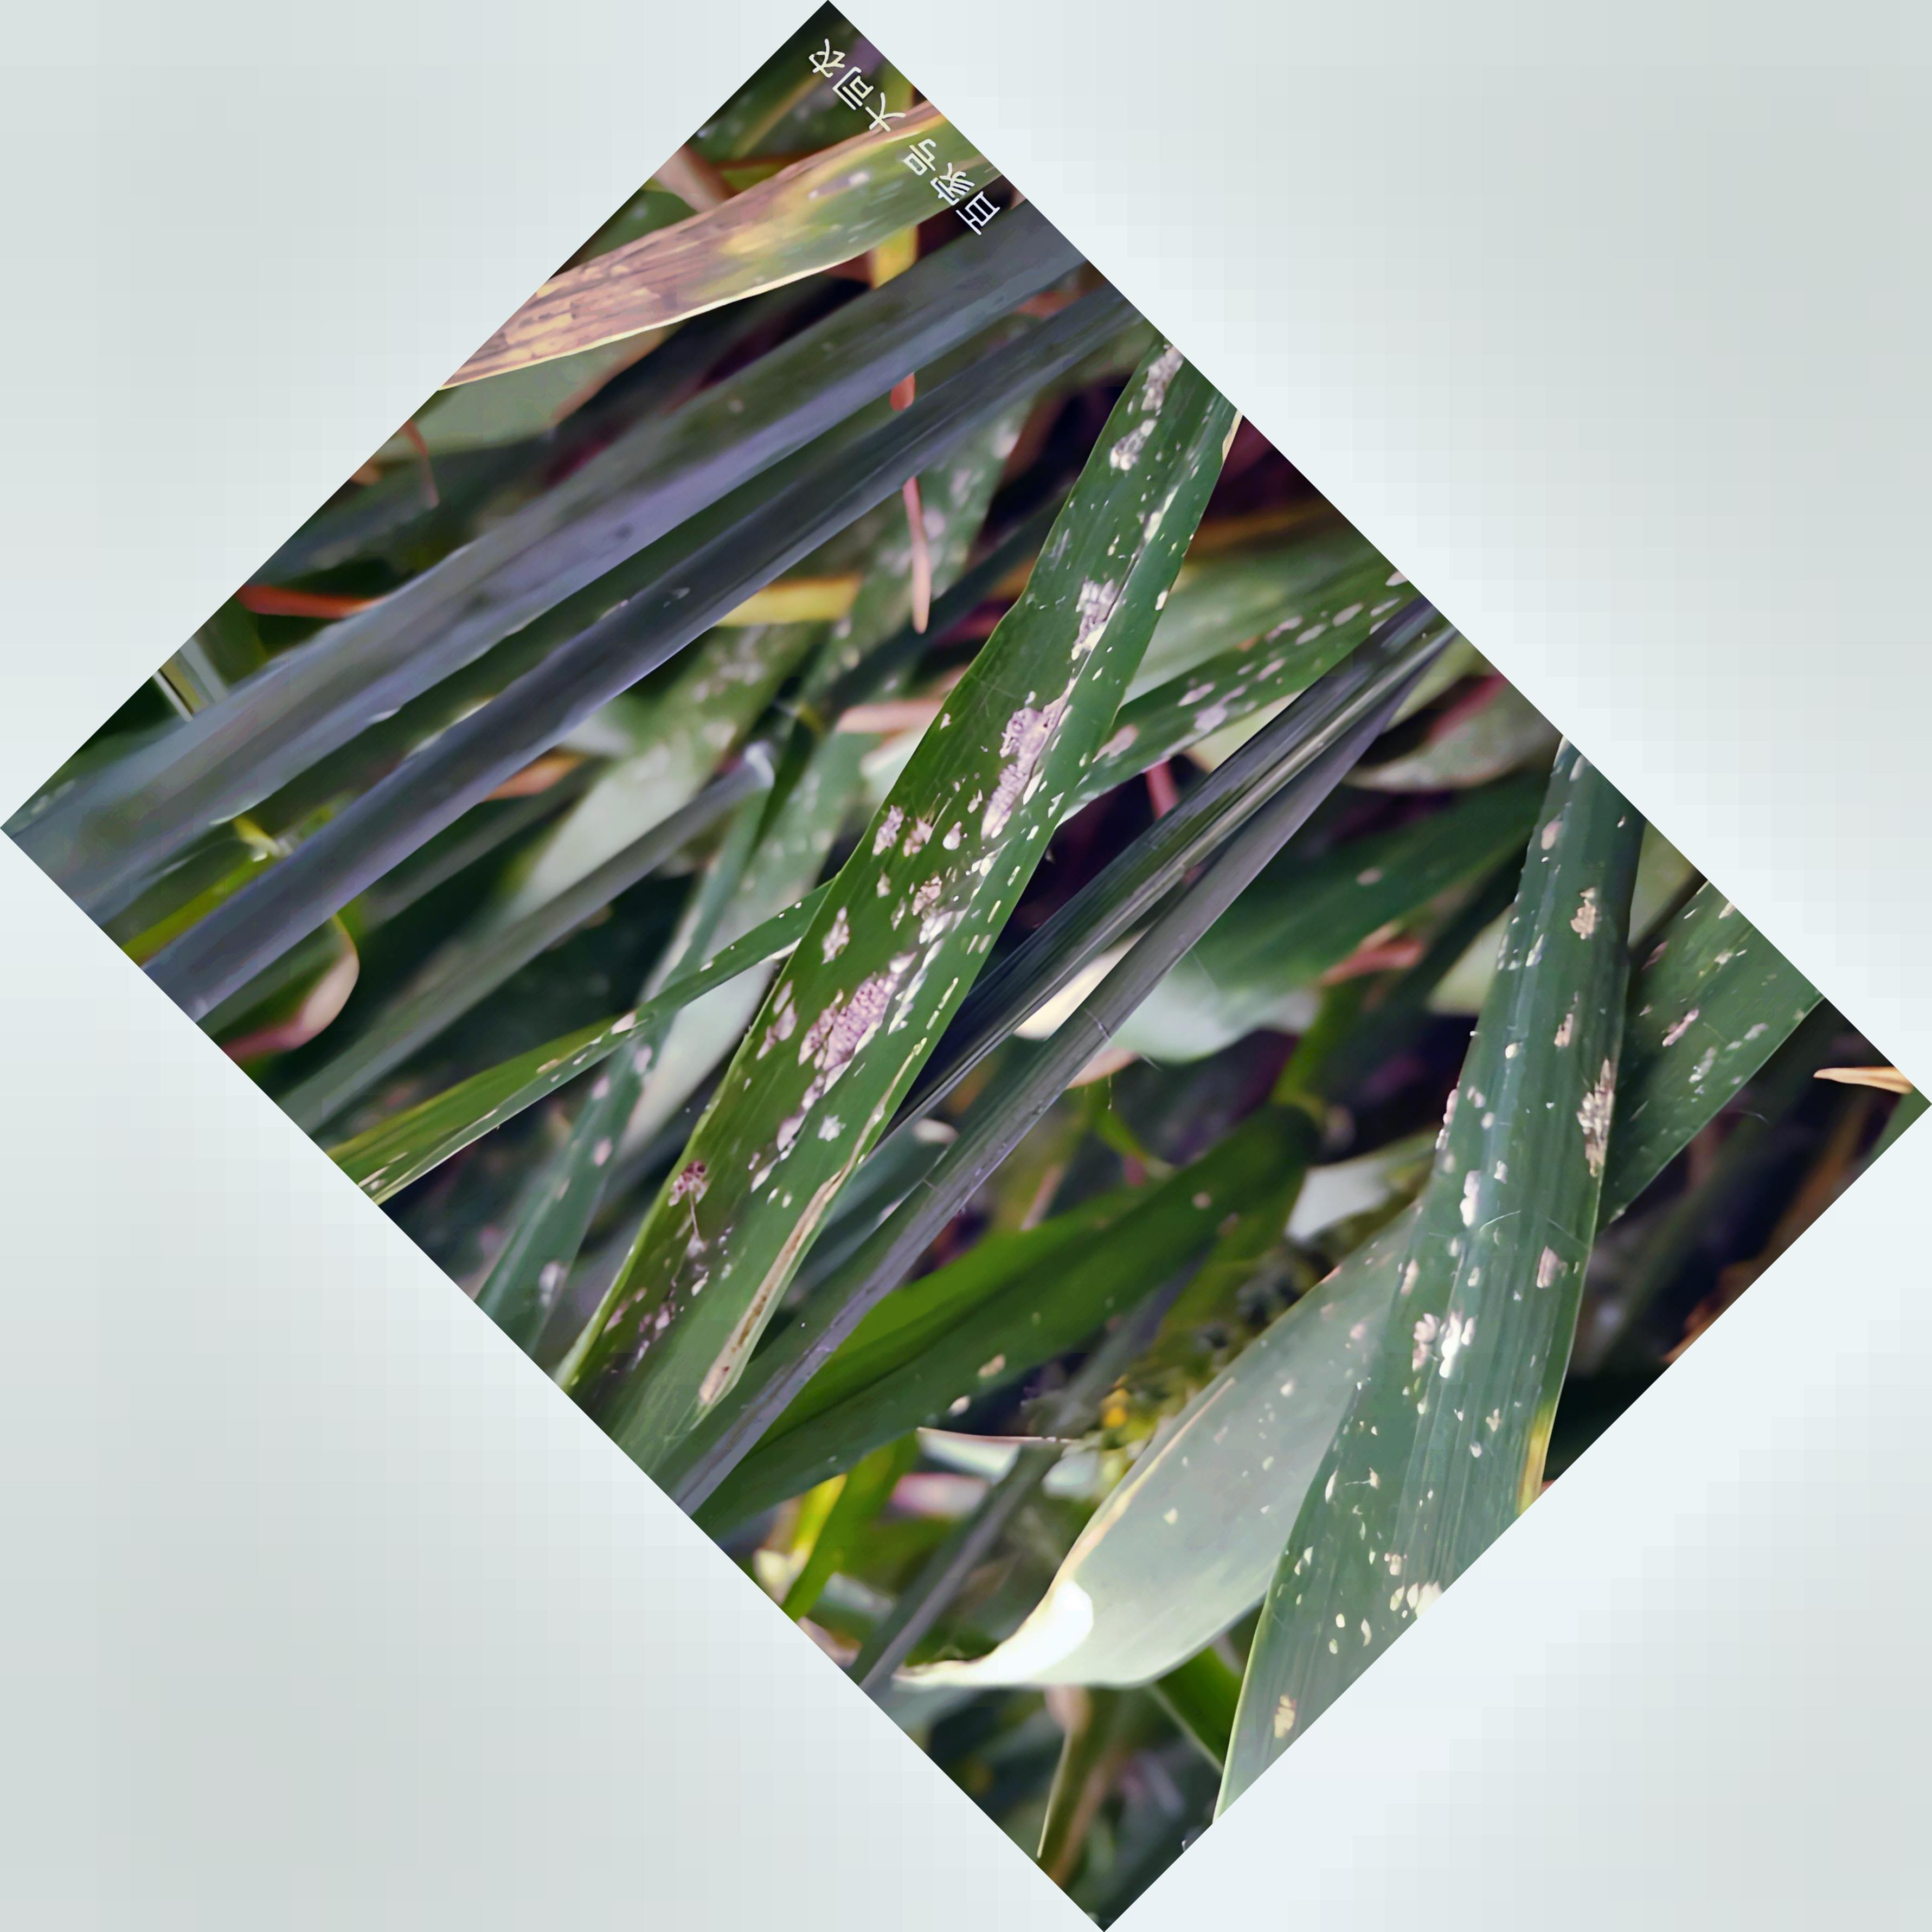Powdery Mildew: (614, 405, 1230, 1357)
